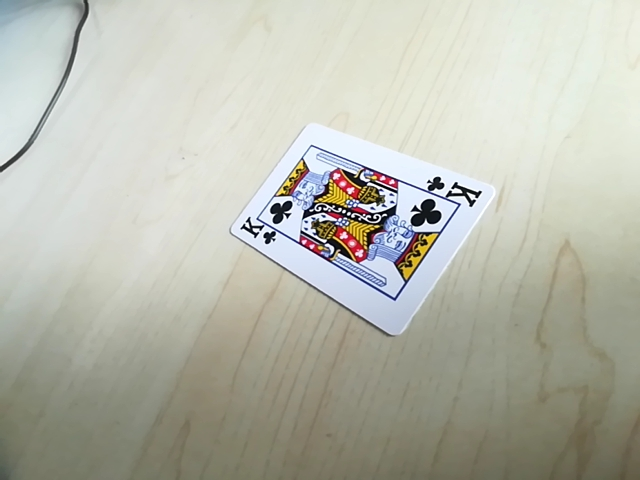mh k: (415, 171, 488, 201), (235, 216, 286, 248)
